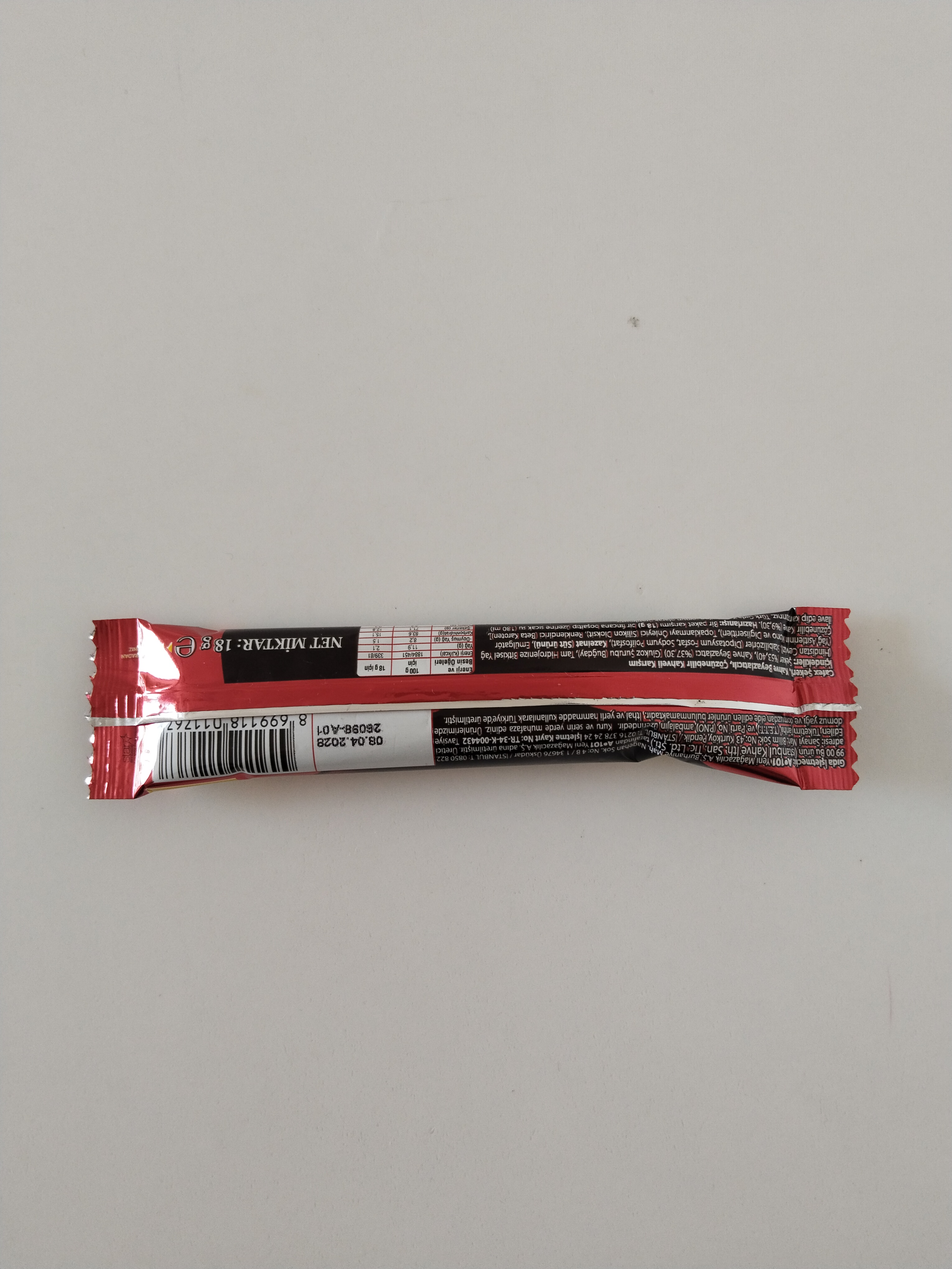cafex_kahve: (87, 607, 858, 797)
